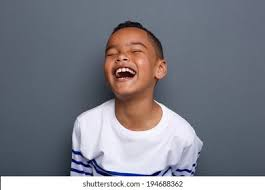person: (102, 20, 169, 102)
